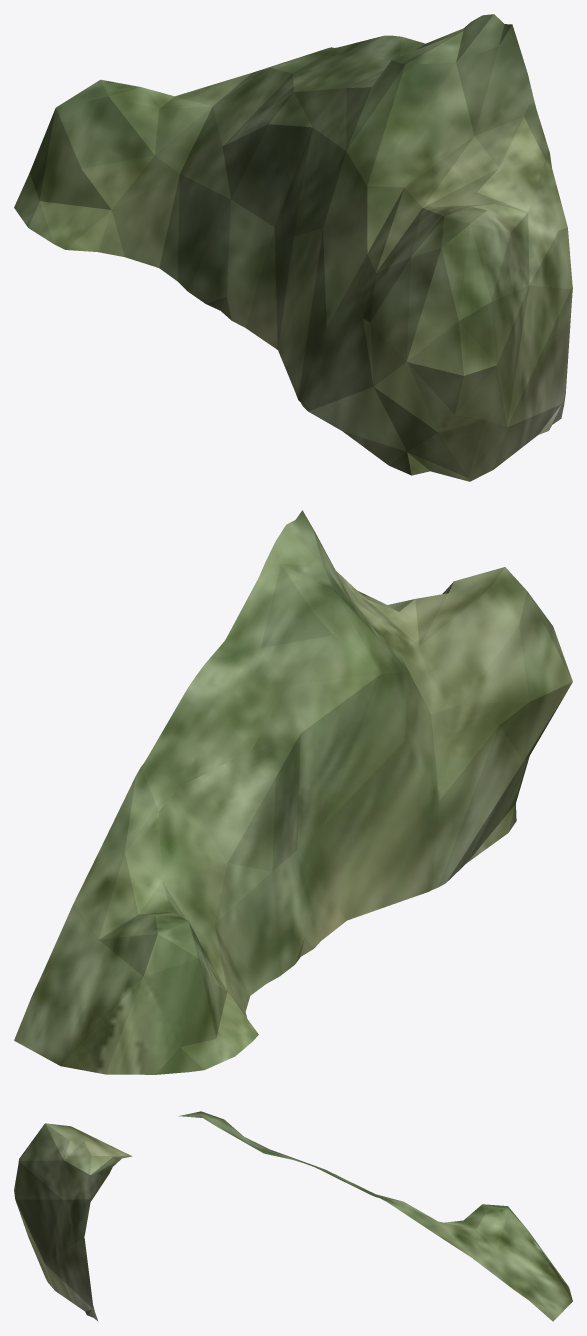
The picture shows the model from 3 angles, top to bottom: view 1: azimuth 30°, elevation 25°; view 2: azimuth 150°, elevation 25°; view 3: azimuth 270°, elevation 25°; orthographic projection. The views are drawn at different scales.
Size of the model in its own units: 0.5101 by 0.8537 by 1.98.
Materials: 1 (1 with a texture image).
